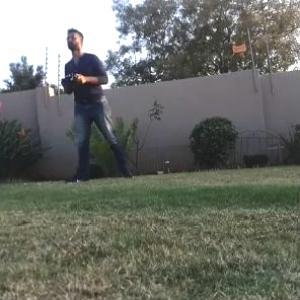follow: (54, 21, 132, 190)
